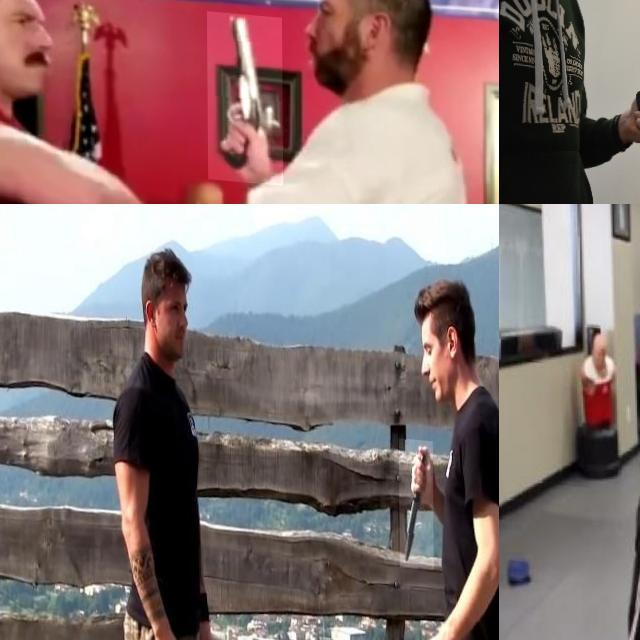-: (398, 431, 434, 562)
gun-knife-thesis - v11 Yolov5 augmented: (206, 6, 282, 180)
